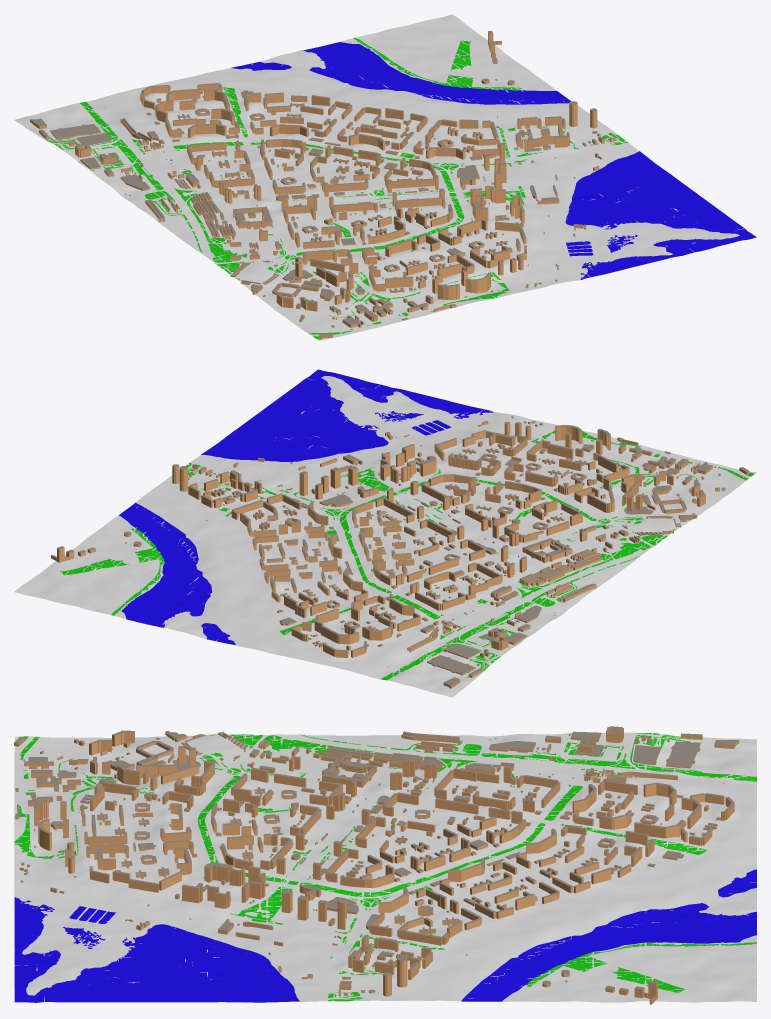
File: strogino_ver_01.fbx
The picture shows the model from 3 angles, top to bottom: view 1: azimuth 30°, elevation 25°; view 2: azimuth 150°, elevation 25°; view 3: azimuth 270°, elevation 25°; orthographic projection. The views are drawn at different scales.
Parts seen in each view (by area): view 1: Terrain, map_2.osm_buildings, map_2.osm_water, map_2.osm_vegetation; view 2: Terrain, map_2.osm_buildings, map_2.osm_water, map_2.osm_vegetation; view 3: Terrain, map_2.osm_buildings, map_2.osm_water, map_2.osm_vegetation.
Boxes of the visible parts, left/top/right/bottom form: Terrain: left=14, top=14, right=747, bottom=340; map_2.osm_buildings: left=30, top=31, right=616, bottom=338; map_2.osm_water: left=231, top=42, right=756, bottom=279; map_2.osm_vegetation: left=47, top=38, right=627, bottom=339; Terrain: left=14, top=375, right=756, bottom=697; map_2.osm_buildings: left=51, top=416, right=749, bottom=688; map_2.osm_water: left=119, top=369, right=493, bottom=645; map_2.osm_vegetation: left=60, top=430, right=754, bottom=680; Terrain: left=14, top=732, right=756, bottom=1002; map_2.osm_buildings: left=14, top=726, right=739, bottom=1004; map_2.osm_water: left=14, top=869, right=756, bottom=1002; map_2.osm_vegetation: left=14, top=733, right=756, bottom=1001.
Size of the model in its own units: 262369 by 14014 by 309433.
